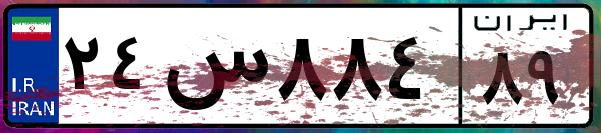2: (57, 26, 110, 100)
4: (385, 28, 445, 110), (110, 28, 158, 98)
8: (270, 28, 330, 110), (330, 28, 385, 110), (475, 38, 525, 113)
9: (525, 38, 570, 115)
س: (158, 20, 270, 120)
